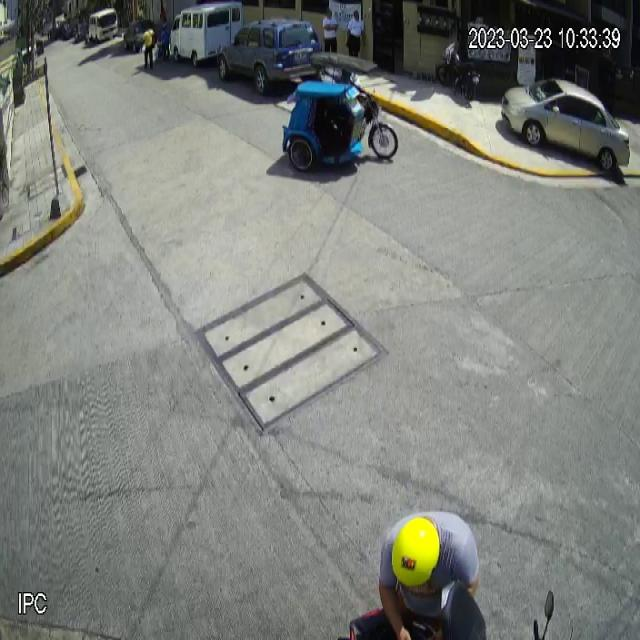Car: (500, 76, 631, 172), (216, 17, 323, 97)
Tricycle: (282, 50, 399, 172)
Van: (169, 0, 244, 69)
